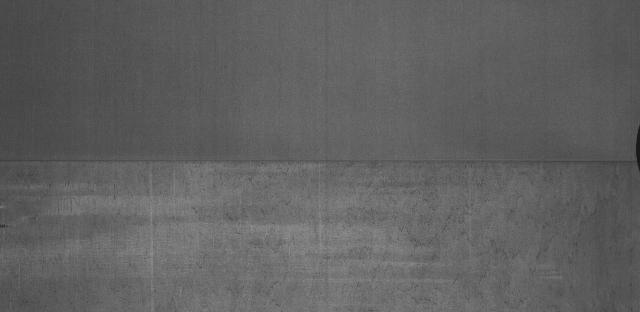welding_line: (3, 152, 640, 176)
